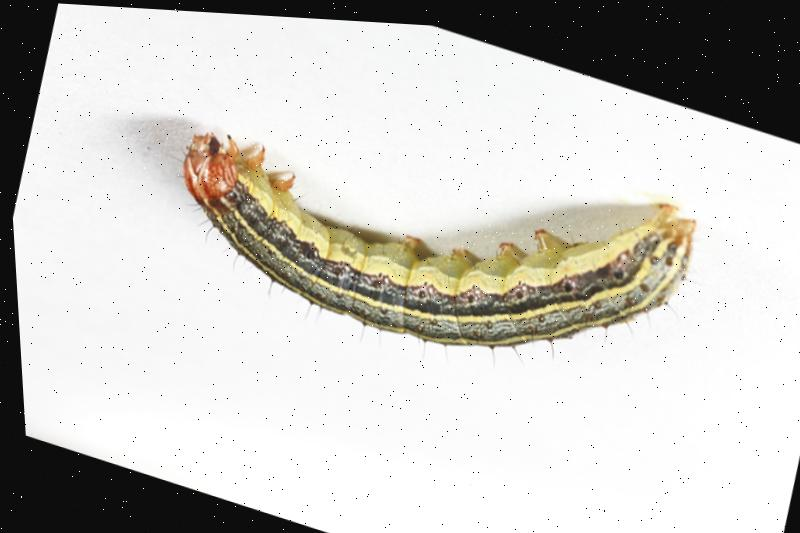fall-armyworm: (178, 128, 695, 341)
